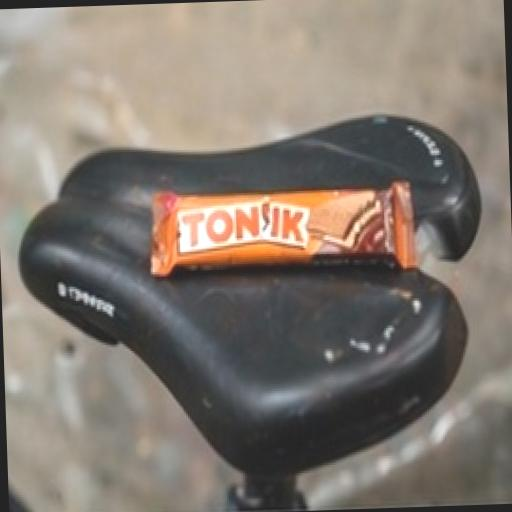tonik: (76, 100, 462, 398)
